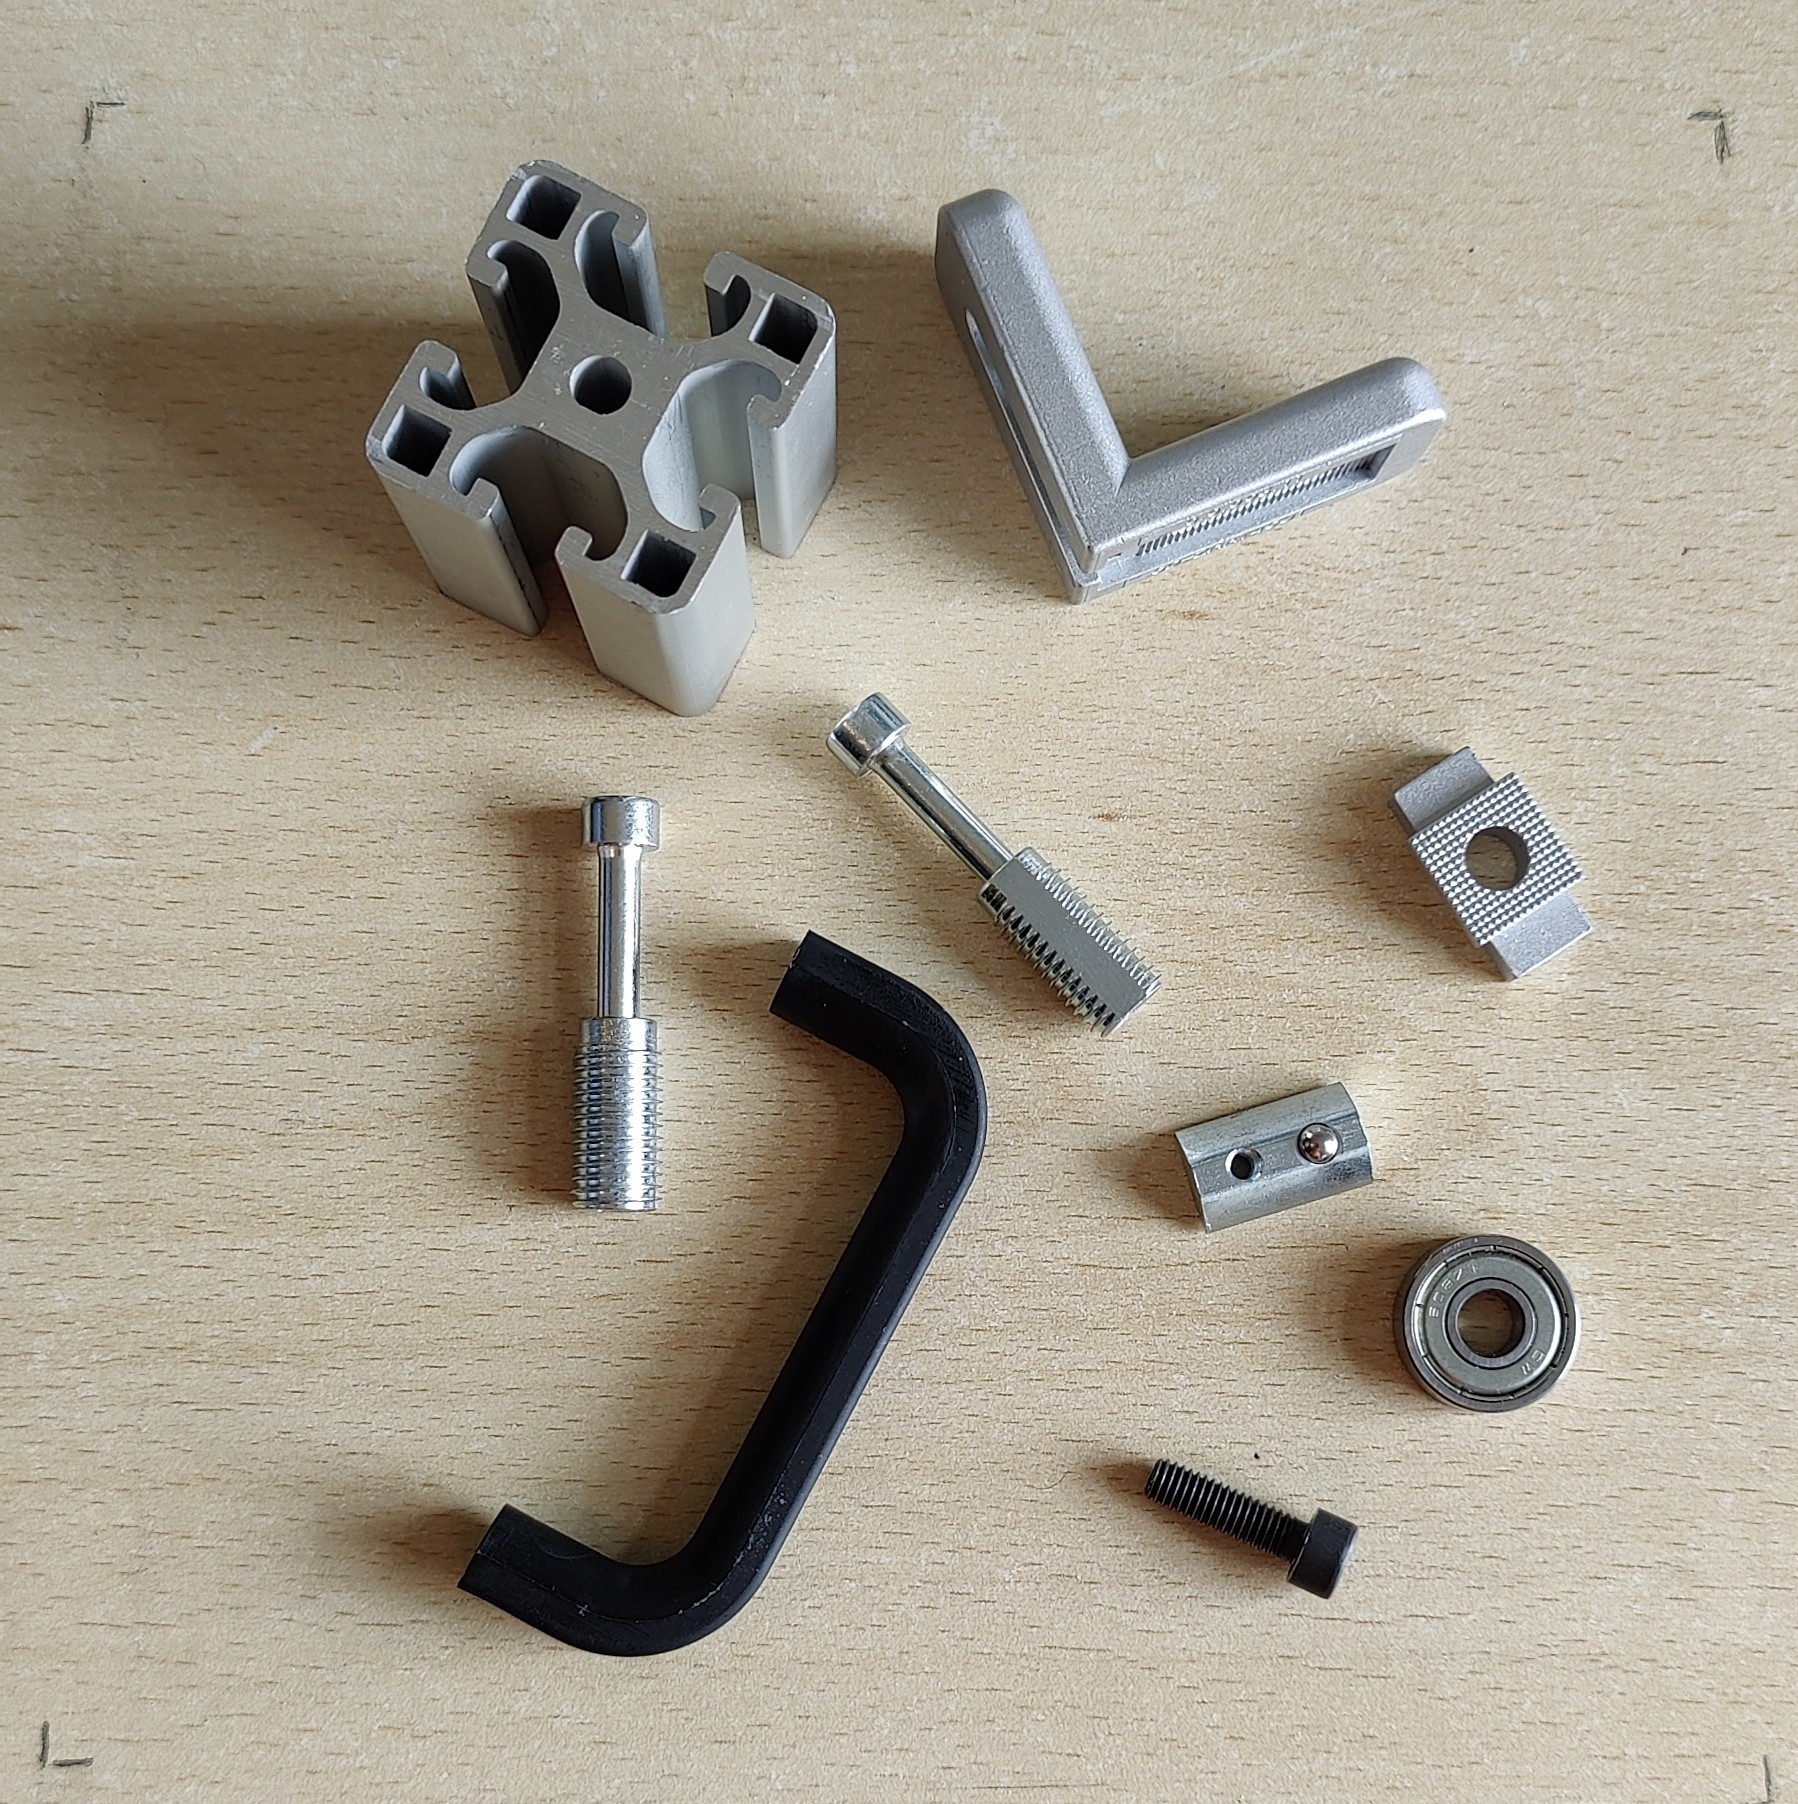Aluminium Extension: (361, 156, 843, 721)
Ball Bearing: (1391, 1230, 1584, 1414)
Multiwinkel: (934, 188, 1447, 607)
Pull Handle: (454, 923, 991, 1661)
Shoulder Socket Head Cap Screw: (822, 690, 1166, 1042), (566, 793, 665, 1215)
Socket Head Cap Screw: (1138, 1452, 1365, 1603)
T Nut Square: (1385, 744, 1599, 984)
T Spring Nut: (1172, 1076, 1378, 1233)
